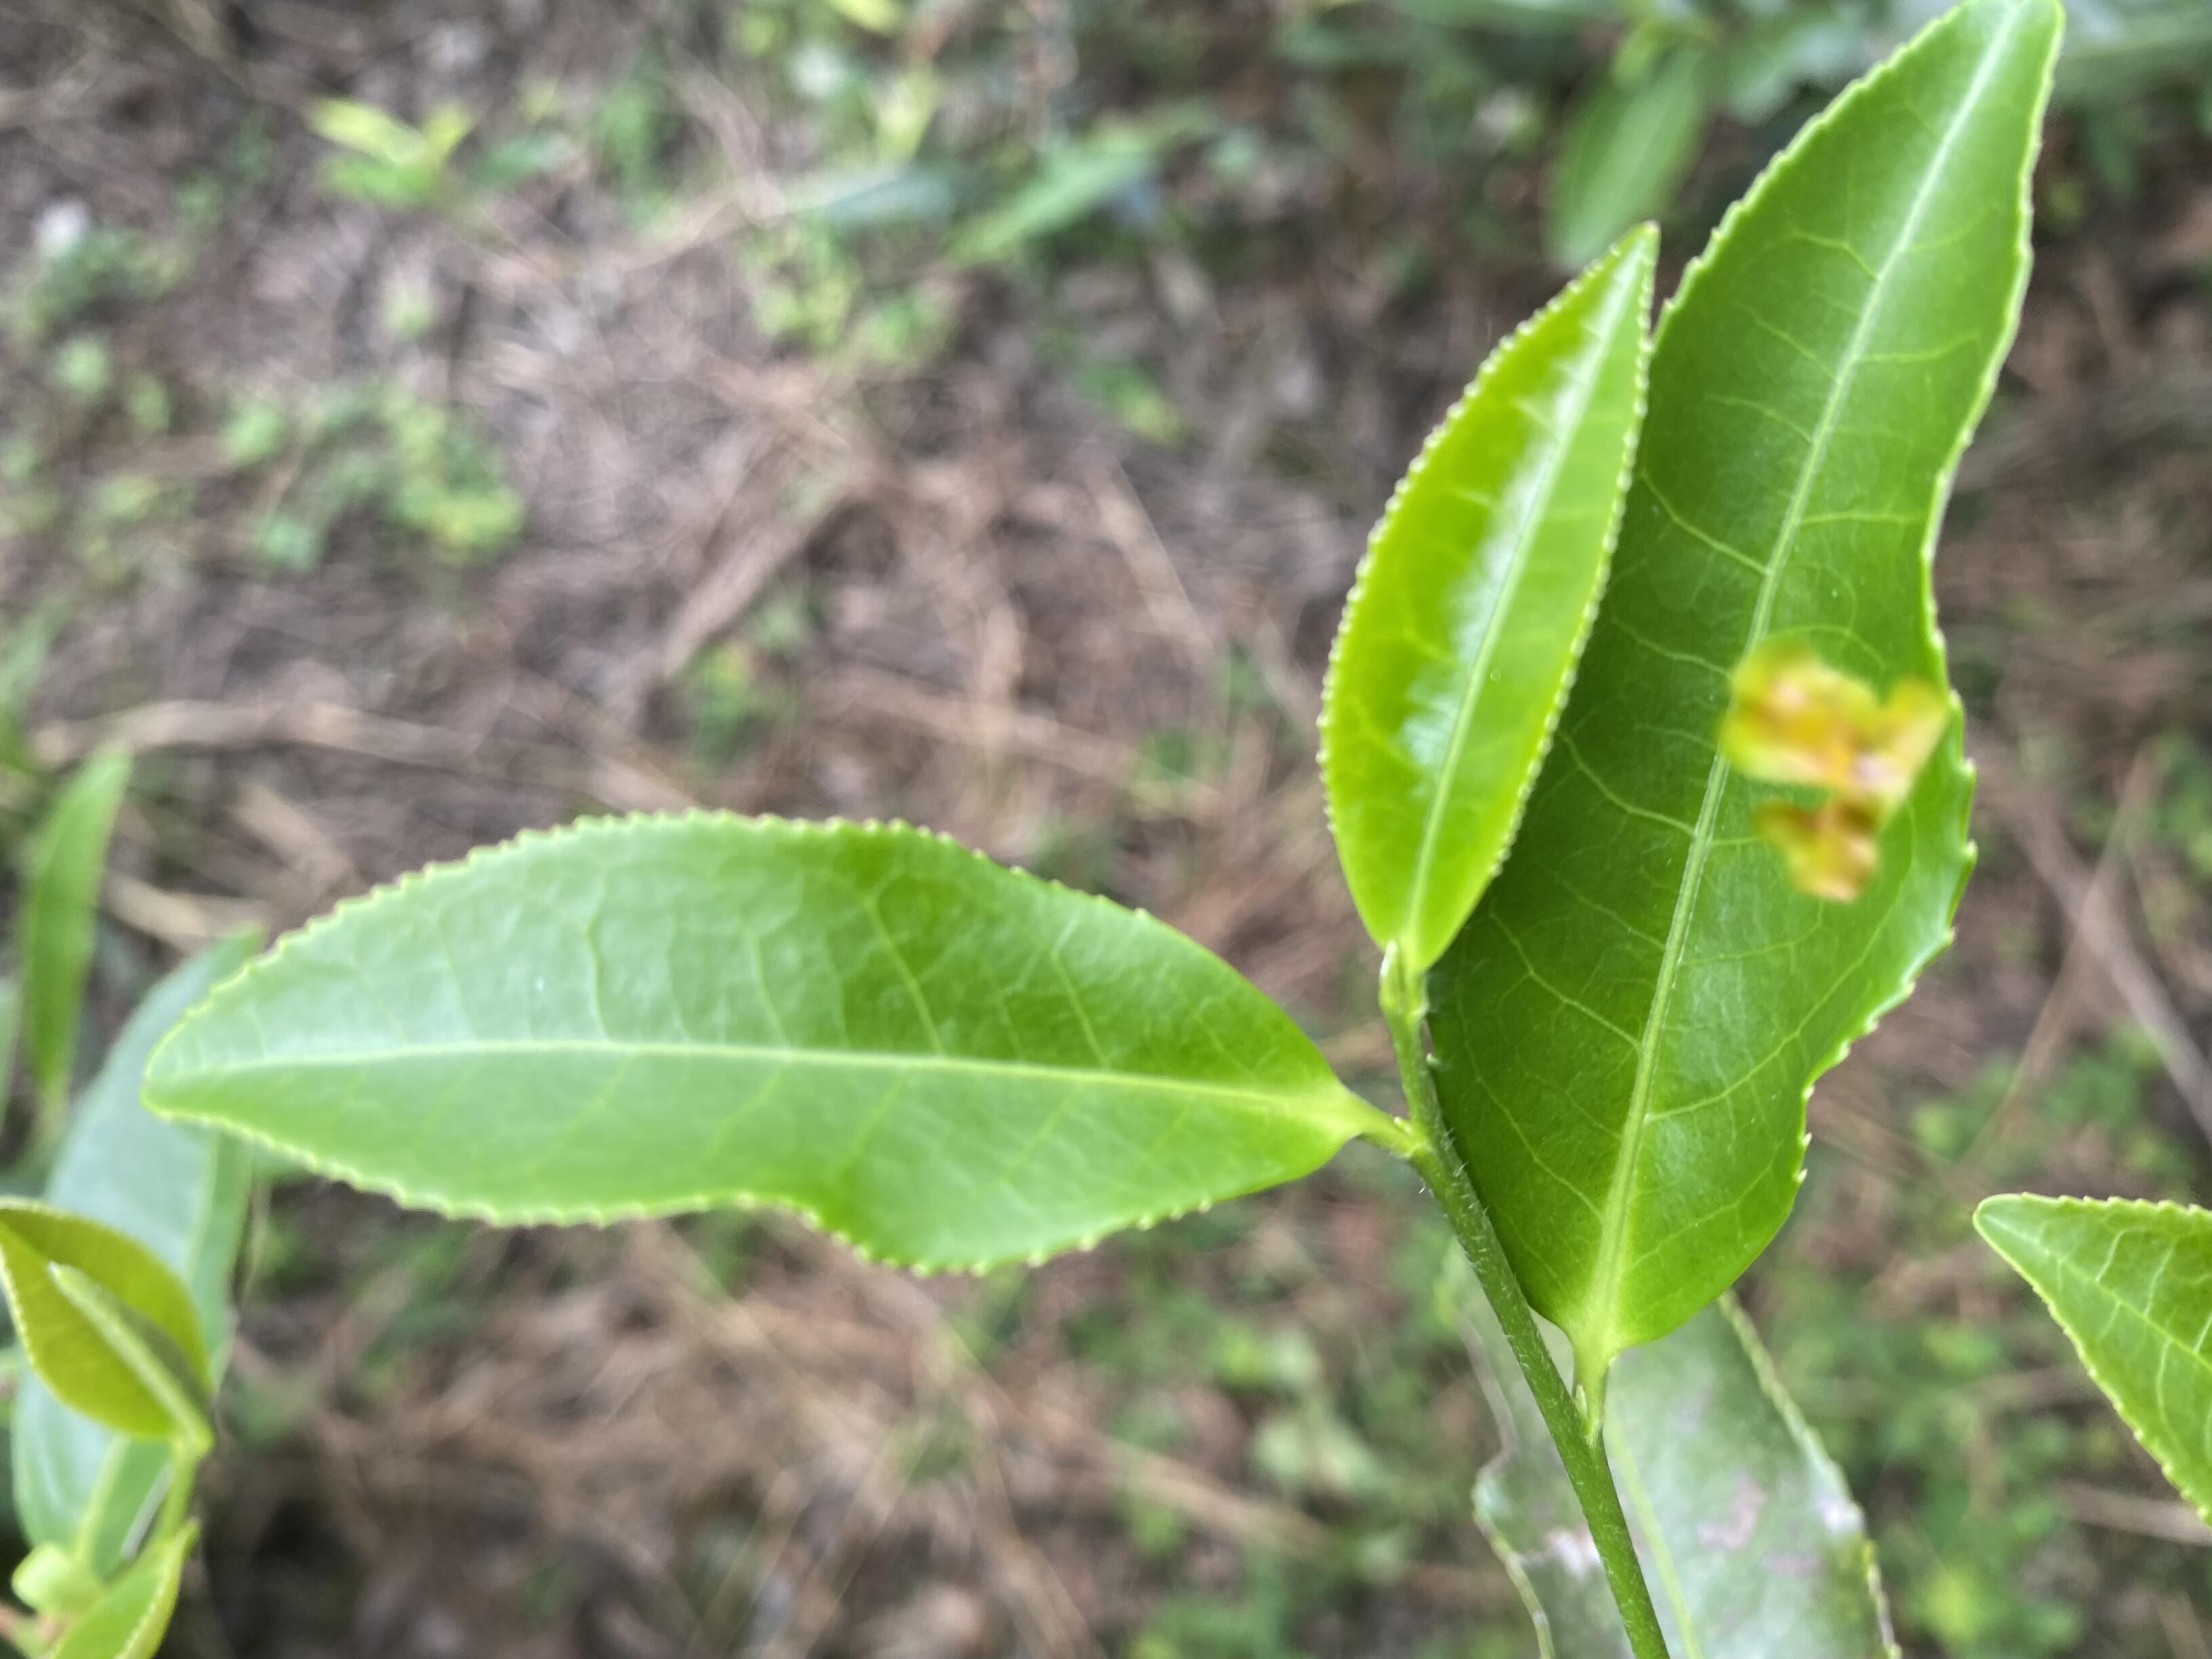chabing_low: (1426, 3, 2069, 1358)
healthy: (131, 805, 1348, 1281), (1317, 220, 1656, 969), (1973, 1190, 2210, 1514)
